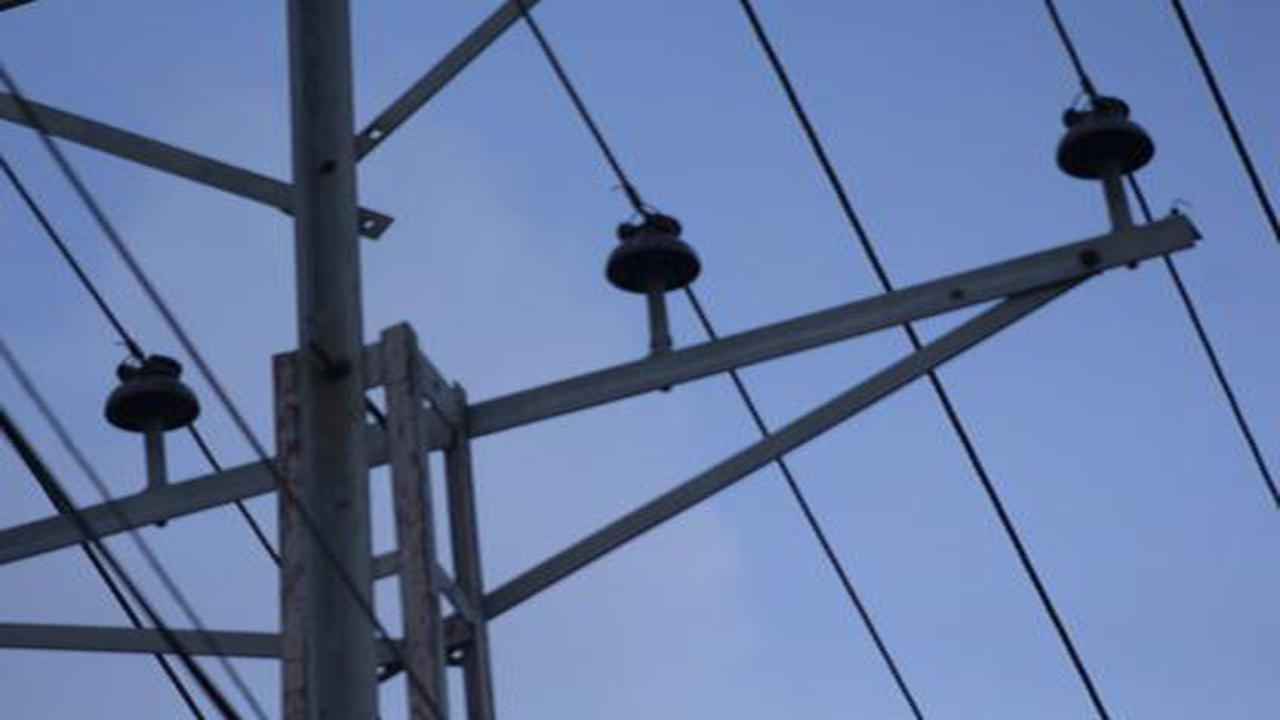insulator_pin: (1045, 94, 1160, 188), (596, 209, 708, 297), (102, 352, 204, 438)
